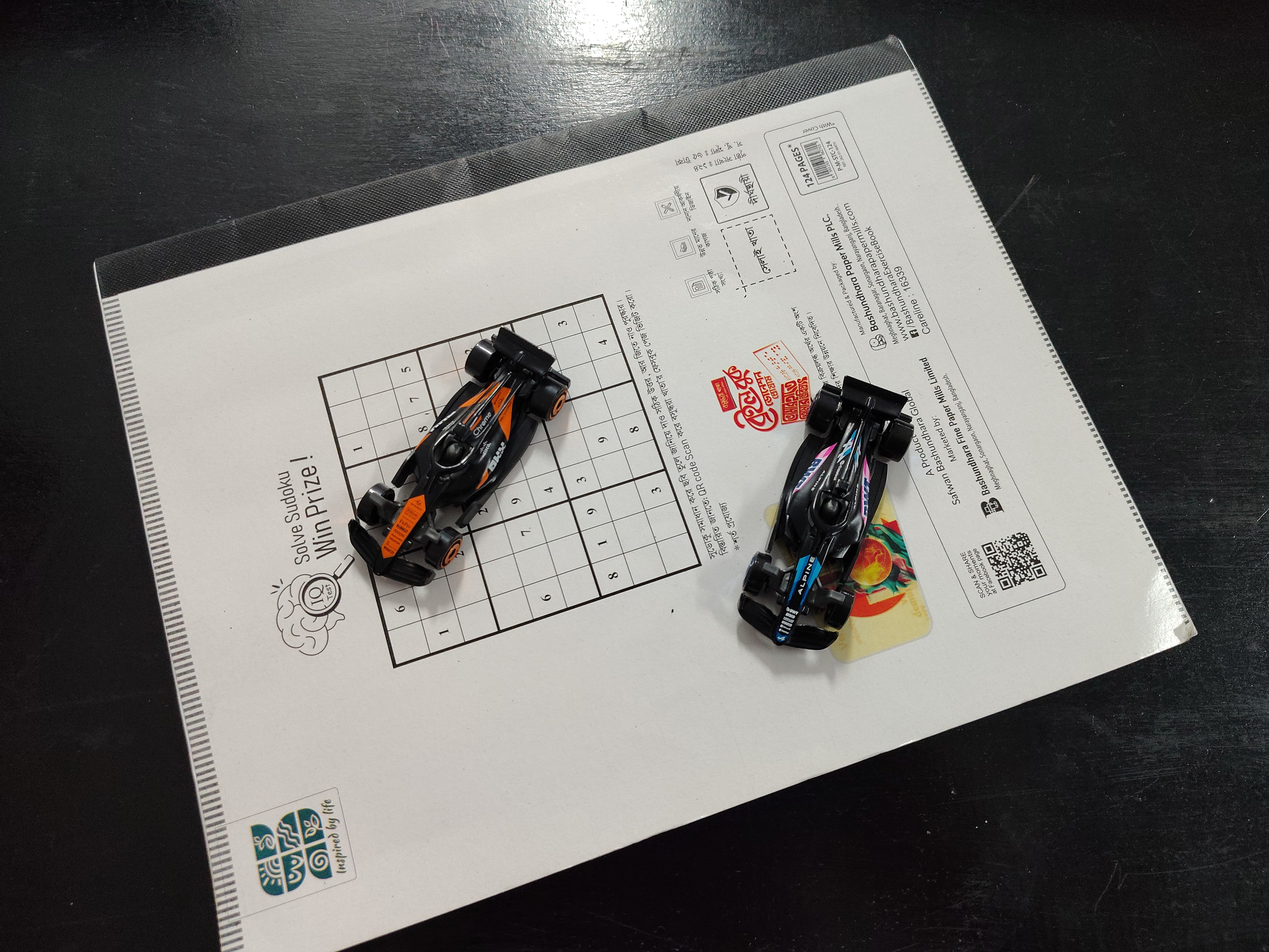Alpine A524: (717, 299, 987, 671)
McLaren MCL40: (355, 267, 559, 651)
